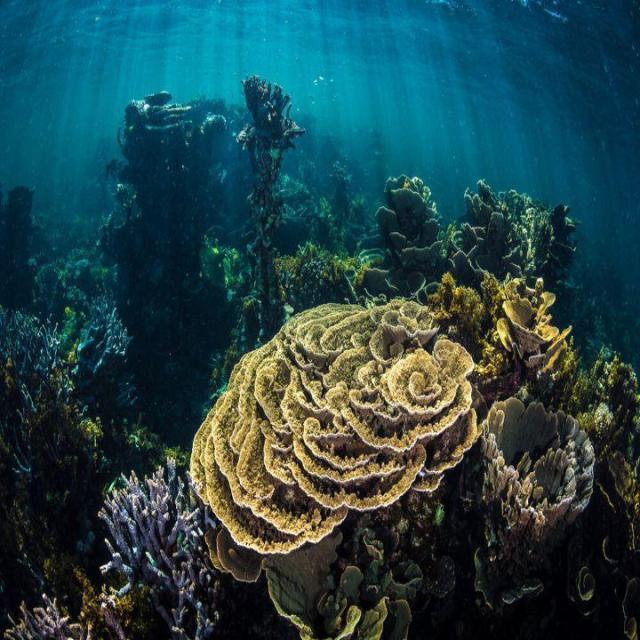Healthy Coral: (8, 187, 628, 618)
